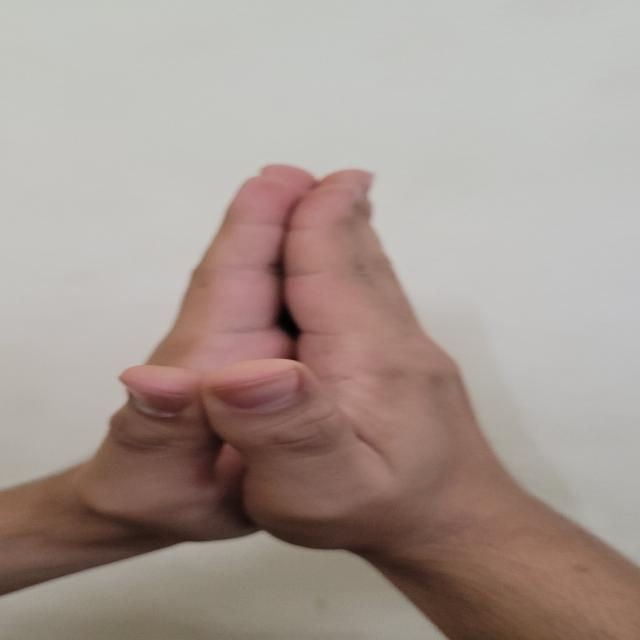Thank You: (41, 119, 515, 613)
